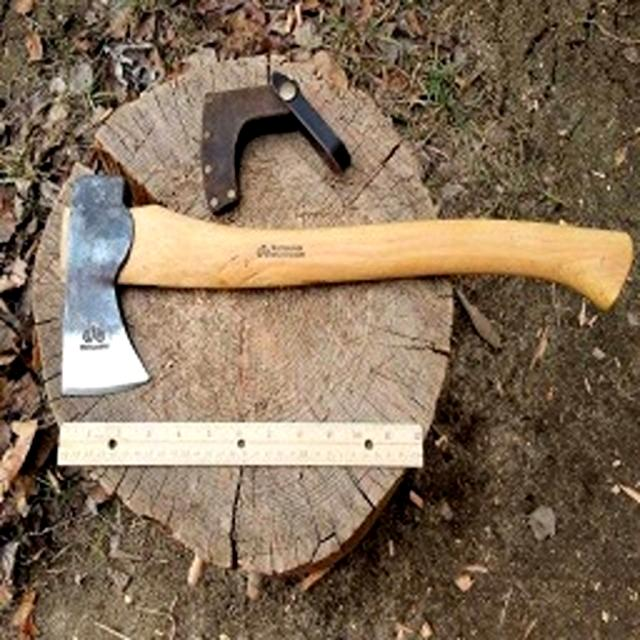ax: (54, 157, 639, 409)
